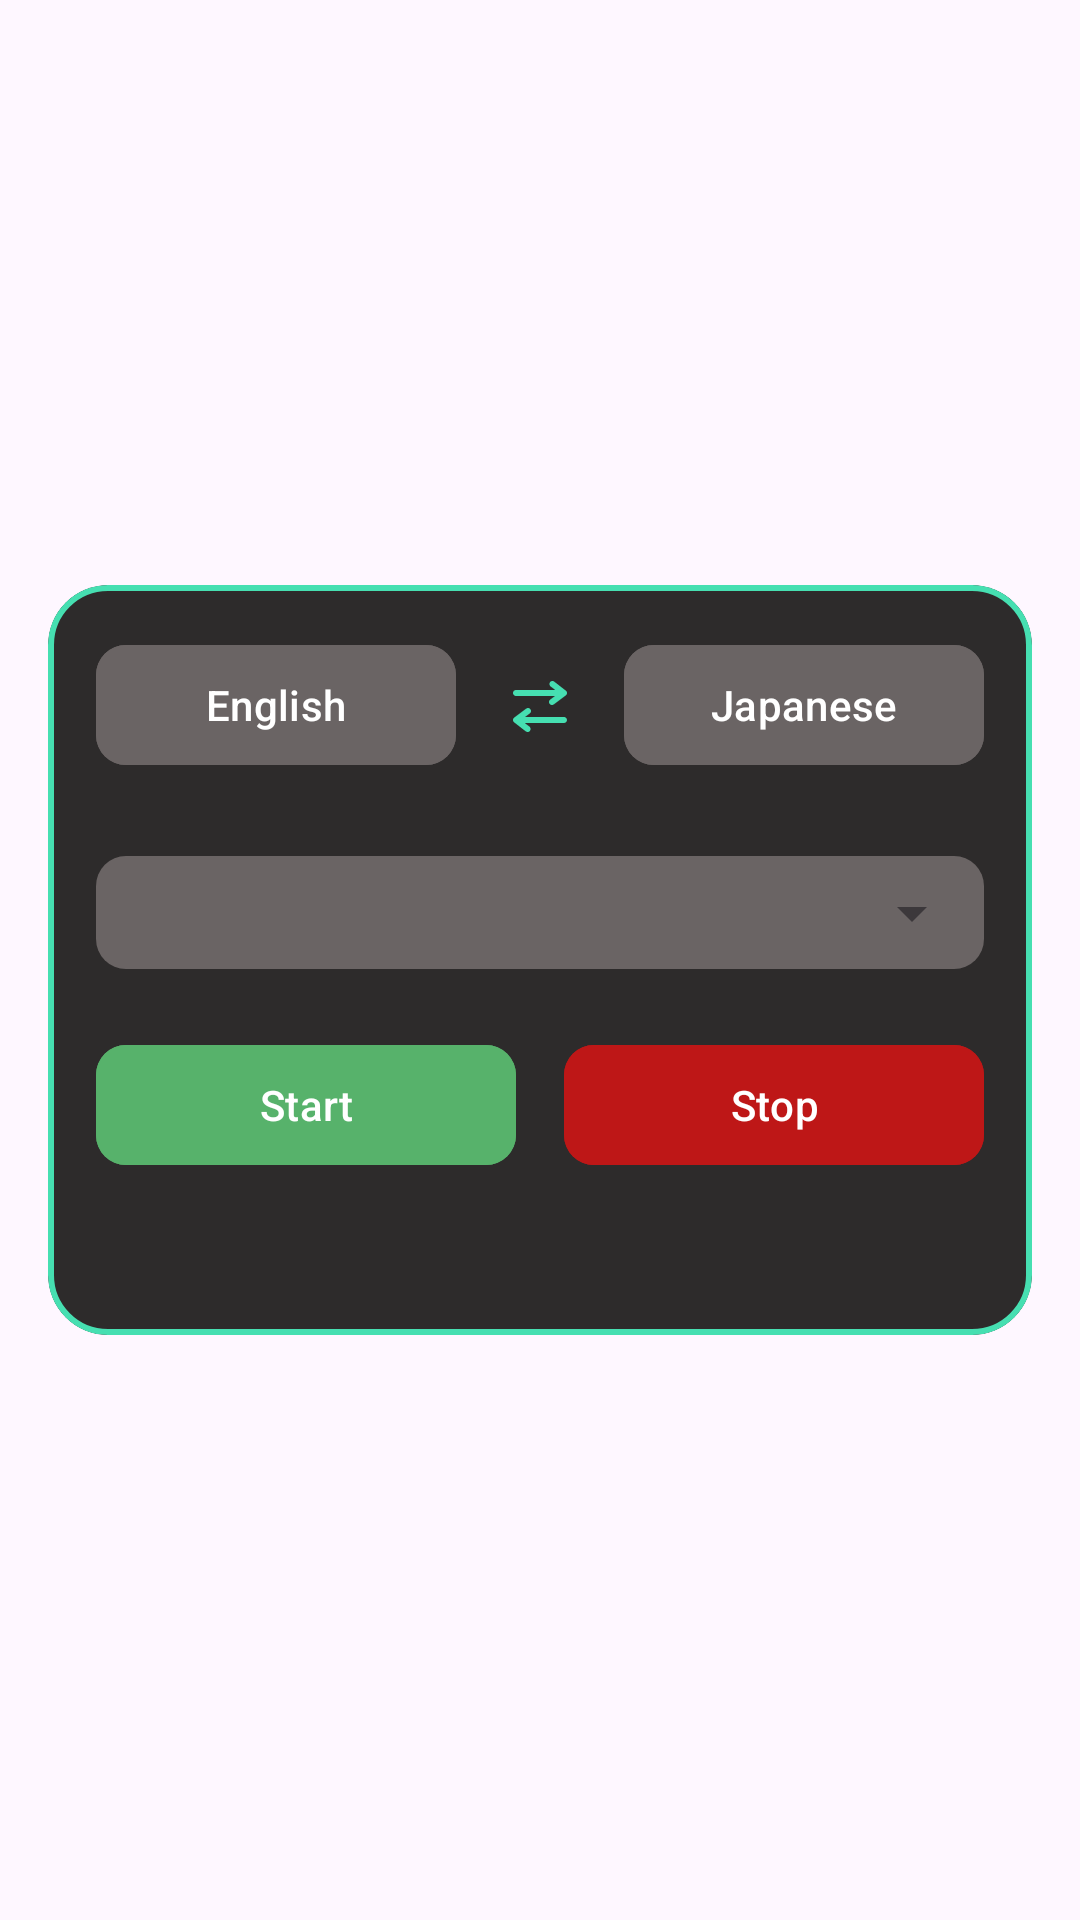

Where to tap for icons on this 1080*1920 app screen, as point (x, y):
Swap languages: point (540, 706)
